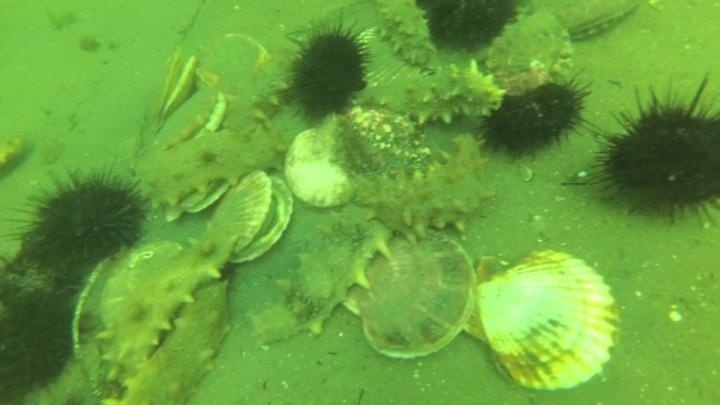echinus: (589, 76, 720, 228), (16, 164, 152, 276), (478, 75, 591, 161), (284, 21, 373, 122), (1, 293, 78, 402), (1, 232, 82, 315), (422, 1, 521, 55)
holothurian: (100, 231, 226, 405), (243, 215, 404, 347), (350, 132, 496, 248), (133, 119, 296, 216), (126, 280, 241, 405), (352, 58, 508, 129), (218, 55, 295, 141), (371, 1, 439, 70)
scallop: (468, 247, 623, 397), (350, 233, 481, 365), (204, 171, 298, 269), (281, 120, 356, 213), (152, 87, 230, 152), (143, 44, 198, 128), (556, 1, 643, 44)
